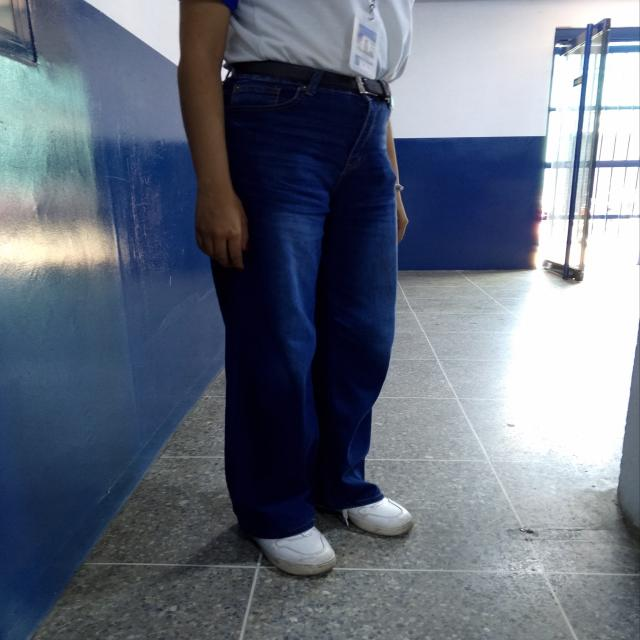carnet: (350, 18, 380, 76)
pantalon_oscuro: (194, 77, 400, 542)
